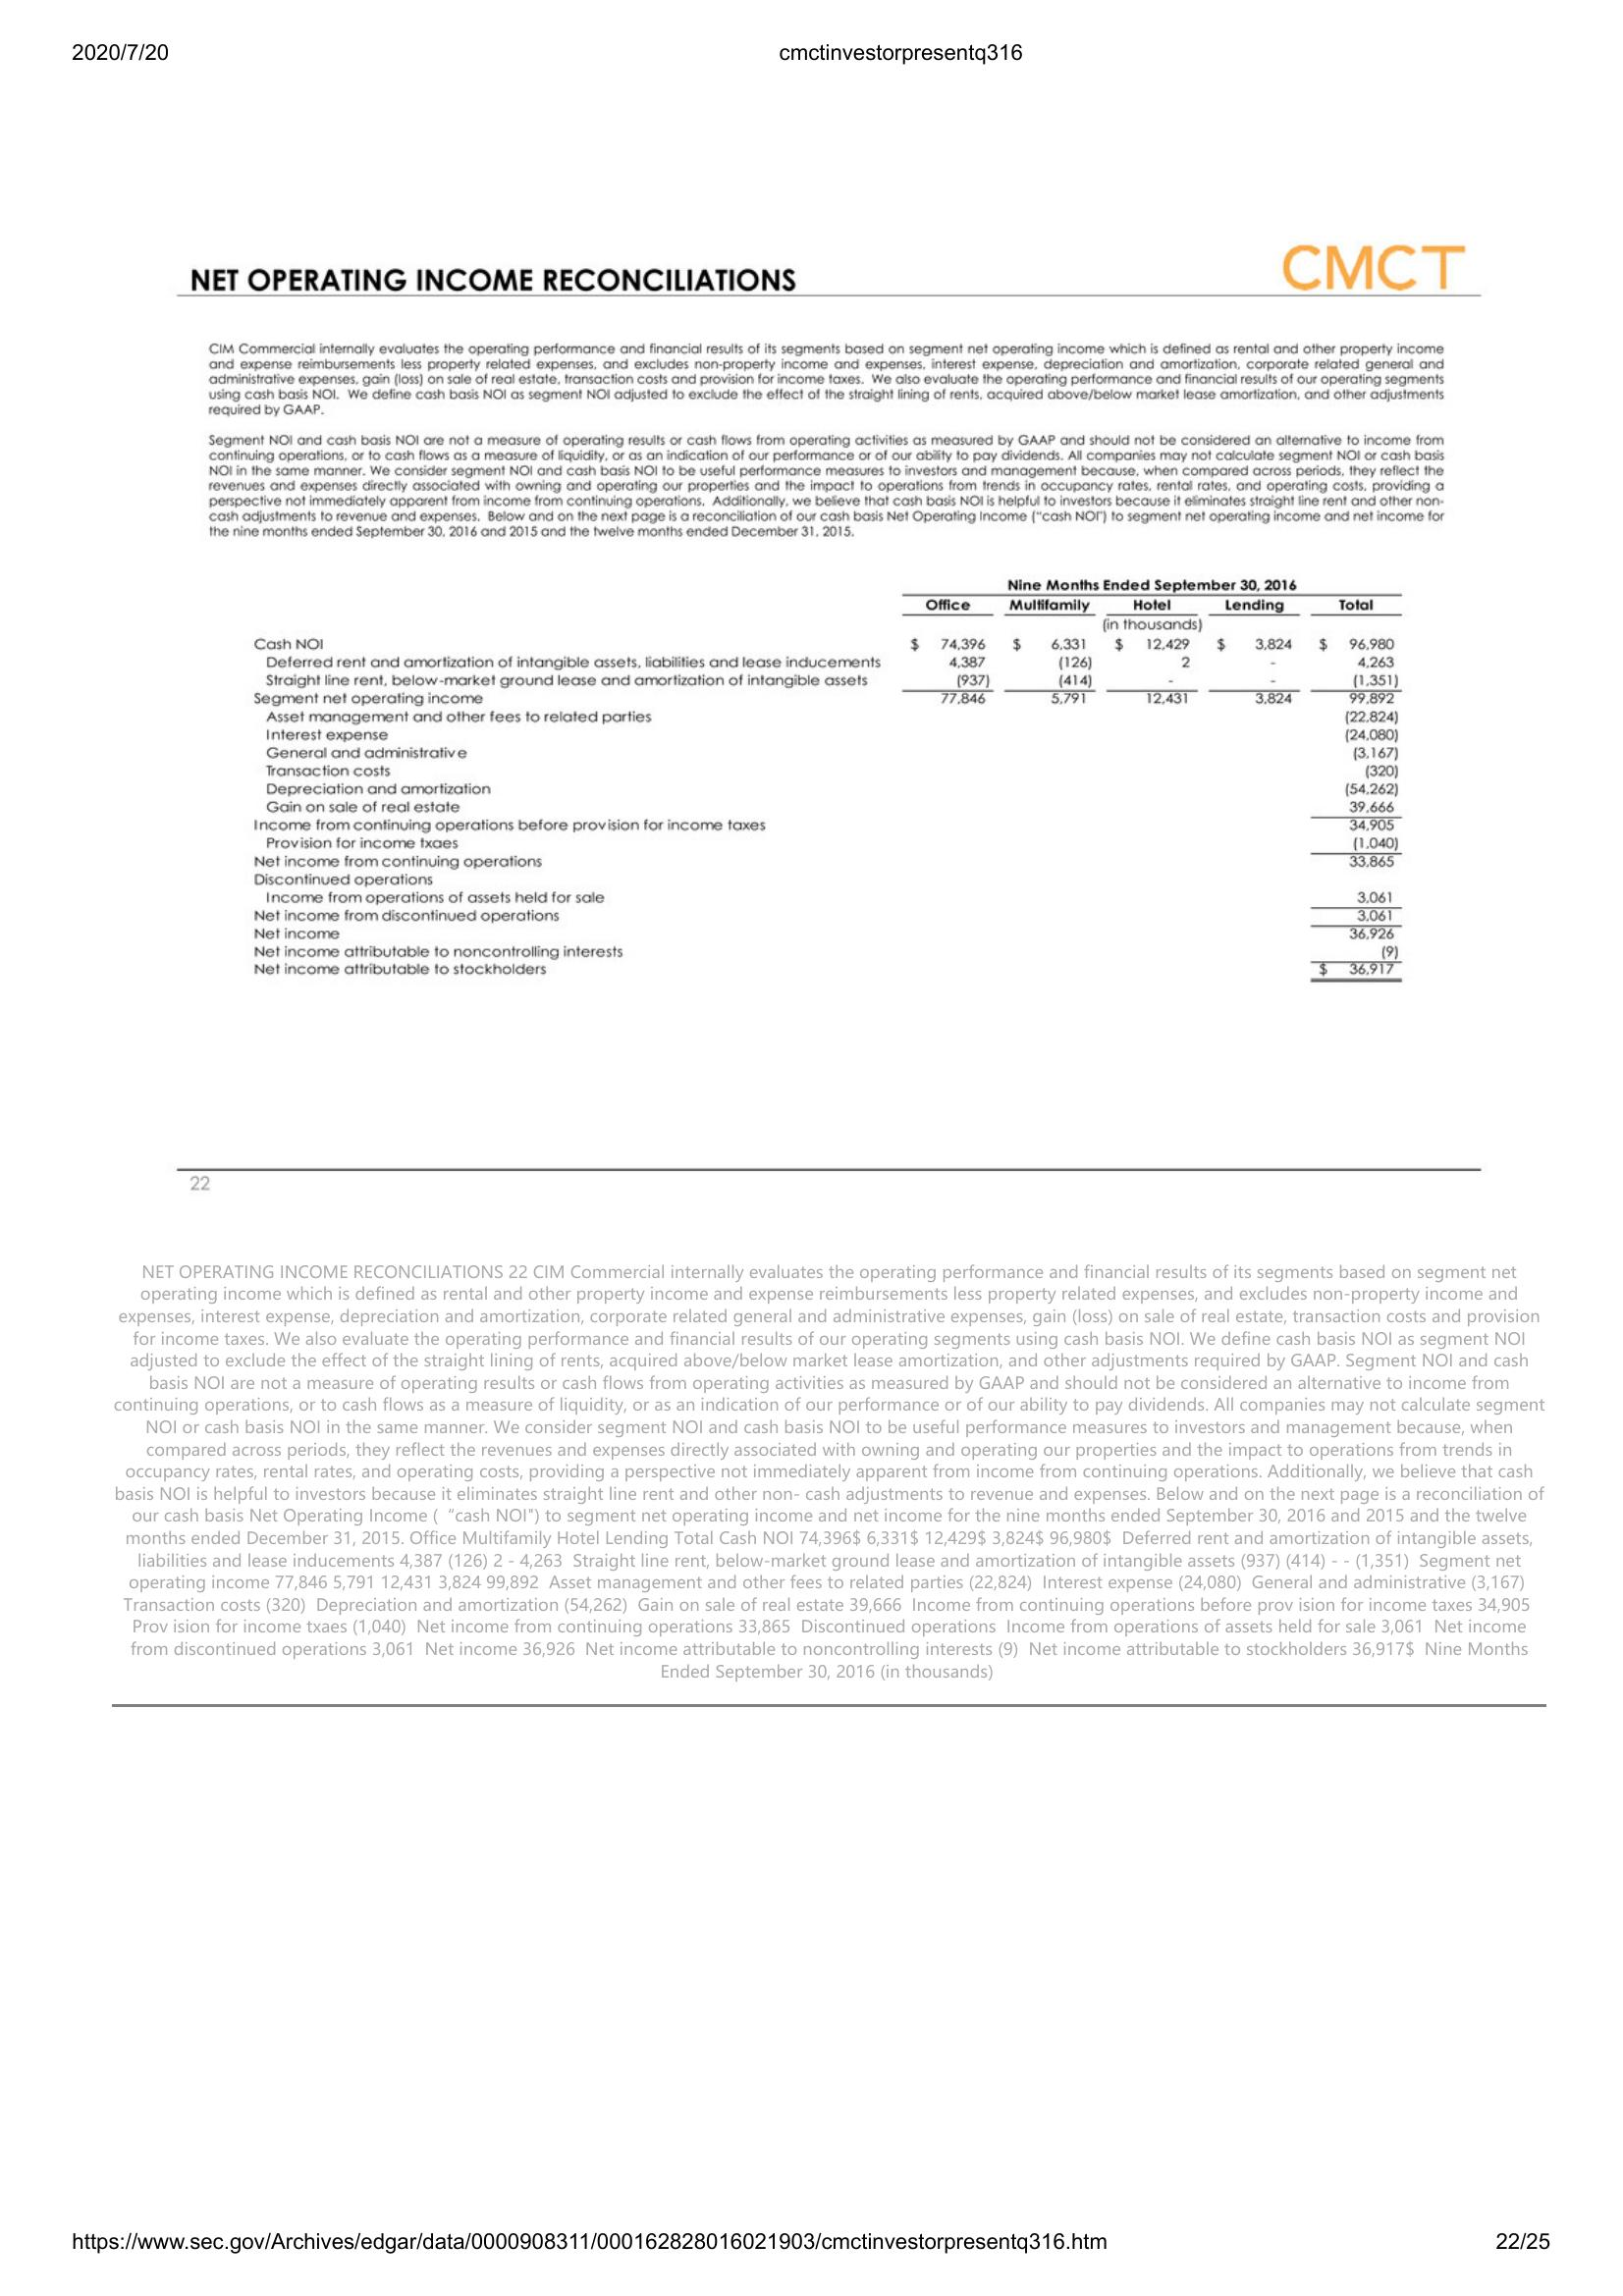table: (244, 576, 1417, 997)
